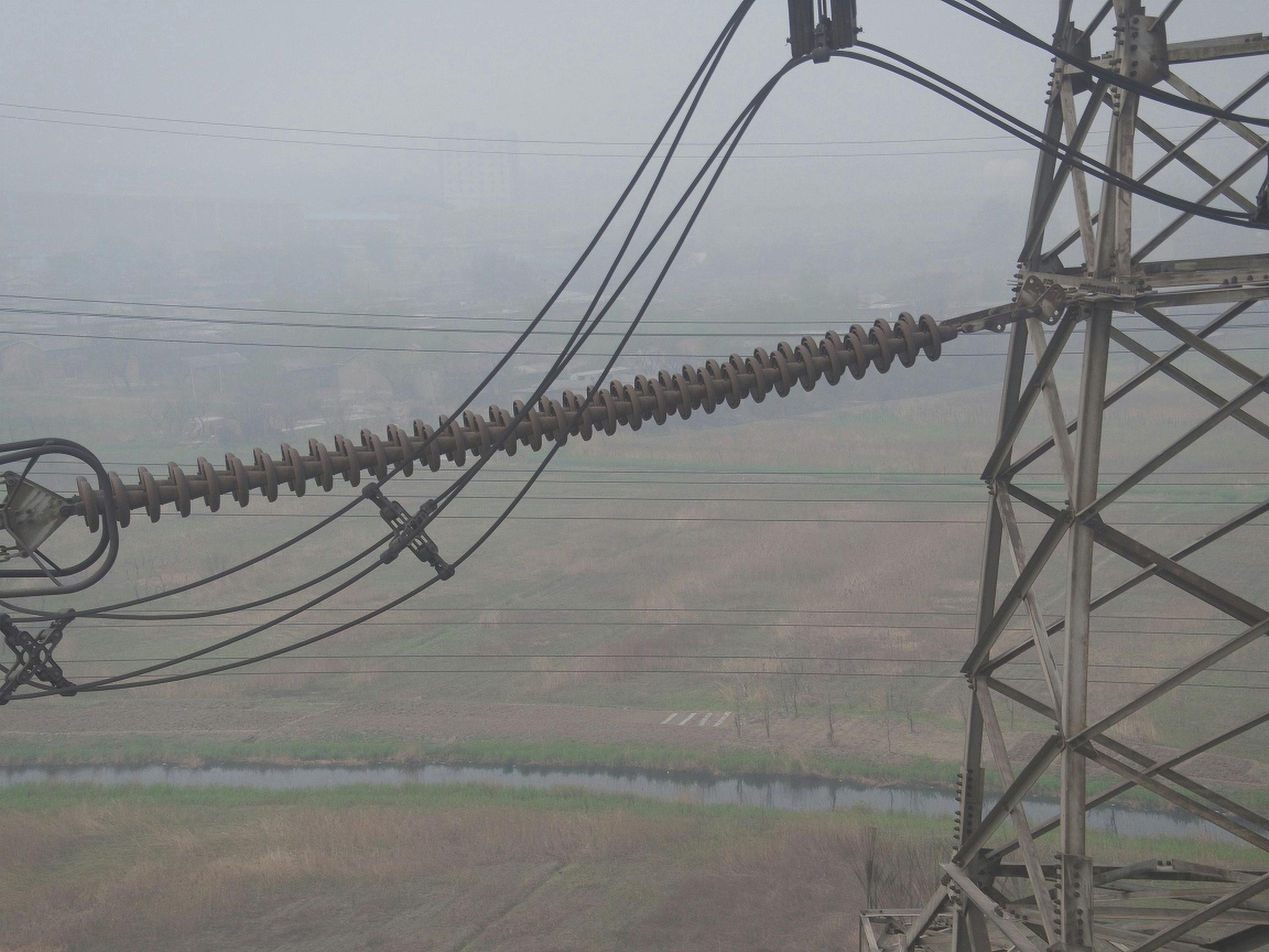insulator: (72, 306, 947, 539)
